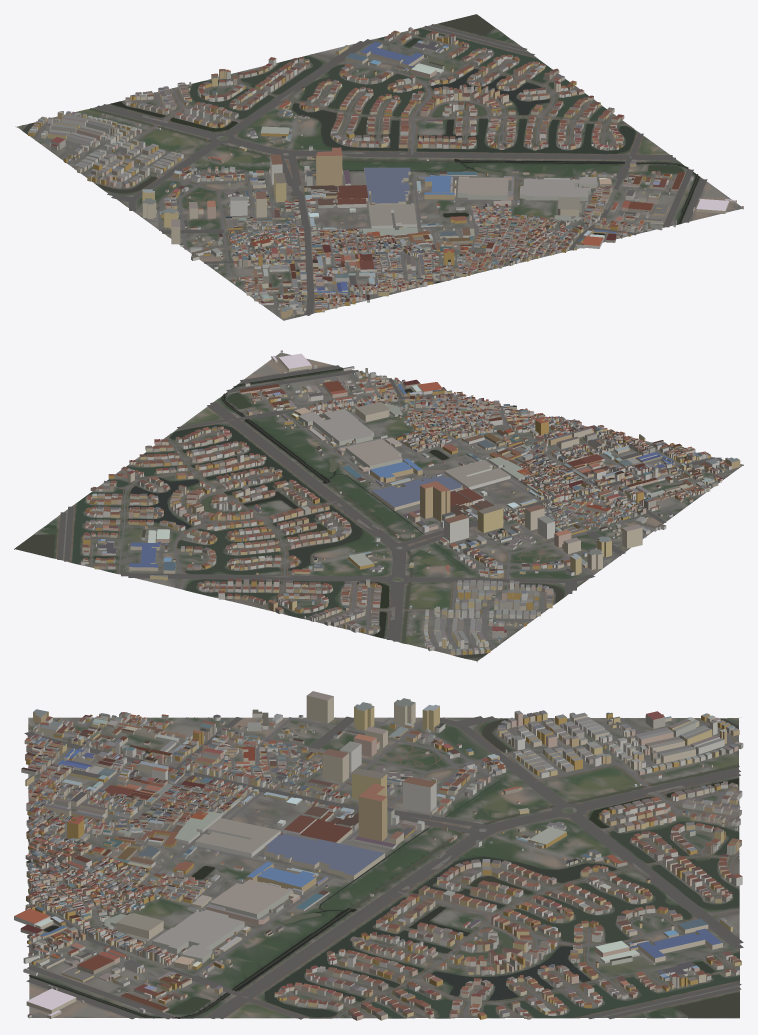
The picture shows the model from 3 angles, top to bottom: view 1: azimuth 30°, elevation 25°; view 2: azimuth 150°, elevation 25°; view 3: azimuth 270°, elevation 25°; orthographic projection. The views are drawn at different scales.
Visible parts, largest first — view 1: buildings, ground, roads, water; view 2: buildings, ground, roads, water; view 3: buildings, ground, roads, water.
Part boxes in pixels (x1,y1,x2,y2): buildings: (28, 27, 743, 318); ground: (16, 14, 741, 320); roads: (15, 24, 739, 317); water: (23, 14, 699, 282); buildings: (81, 350, 740, 655); ground: (14, 353, 743, 661); roads: (55, 353, 737, 662); water: (15, 368, 587, 658); buildings: (14, 691, 743, 1020); ground: (28, 717, 739, 1018); roads: (24, 716, 743, 1019); water: (29, 718, 739, 1018).
Size of the model in its own units: 1430 by 92.83 by 1440.
